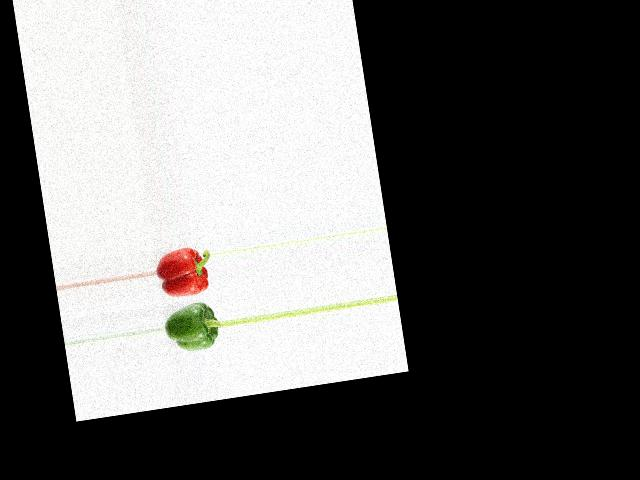bell_pepper: (164, 297, 223, 356)
